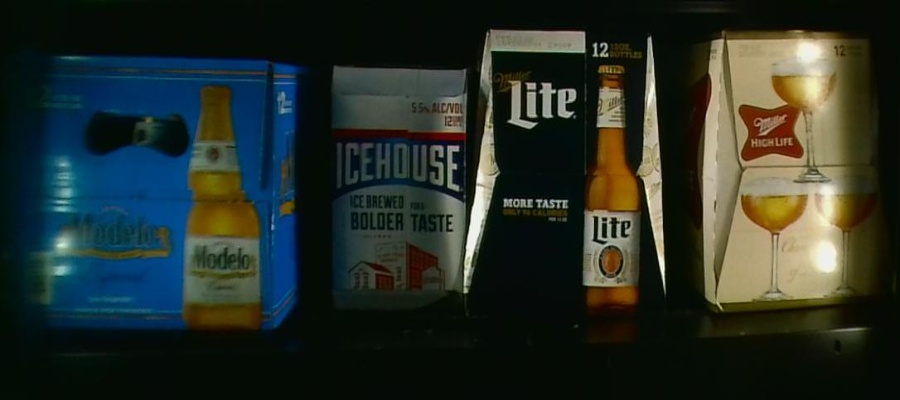bottle: (1, 60, 303, 330), (469, 26, 670, 317), (686, 26, 881, 312), (332, 66, 467, 319)
